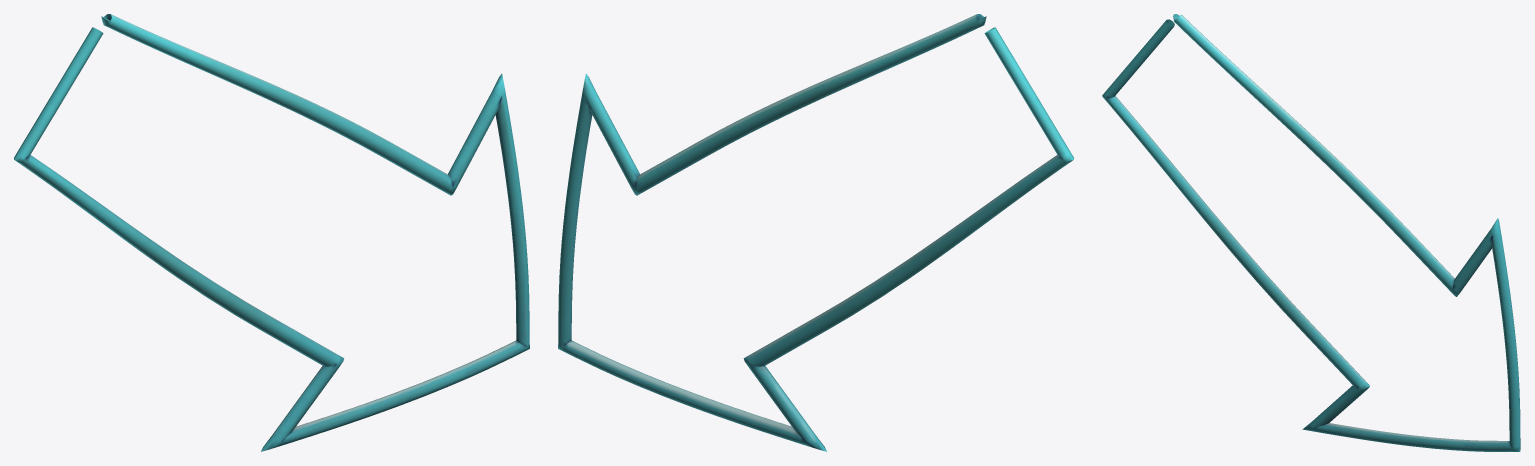
Rendered from Neon02_mesh.fbx.
3 renders of one model, left to right at view 1: azimuth 30°, elevation 25°; view 2: azimuth 150°, elevation 25°; view 3: azimuth 330°, elevation 25°, orthographic. The views are drawn at different scales.
Visible parts, largest first — view 1: arrow_neon; view 2: arrow_neon; view 3: arrow_neon.
Part boxes in pixels (x1,y1,x2,y2): arrow_neon: [14, 14, 529, 451]; arrow_neon: [558, 14, 1073, 451]; arrow_neon: [1102, 14, 1520, 451].
Size of the model in its own units: 4.88 by 4.29 by 0.105.
